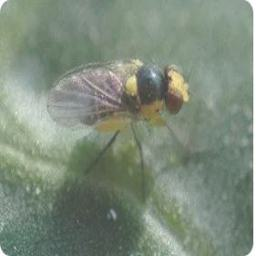liriomyza: (45, 56, 192, 202)
